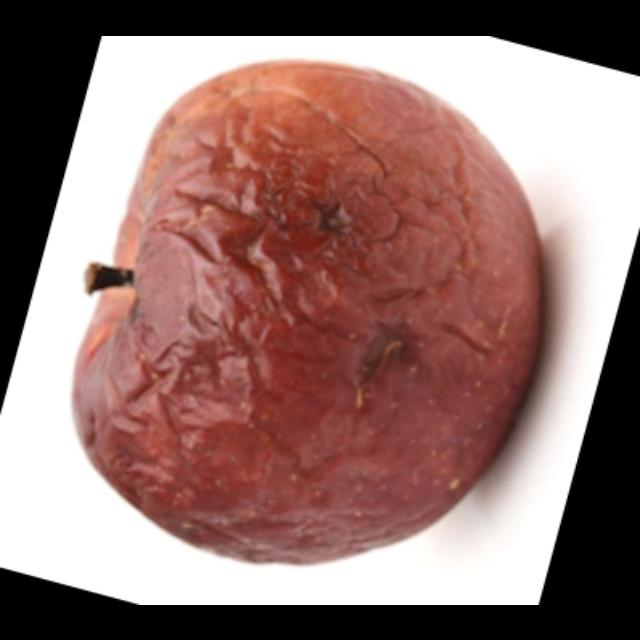Apel Tidak Segar: (71, 58, 548, 572)
